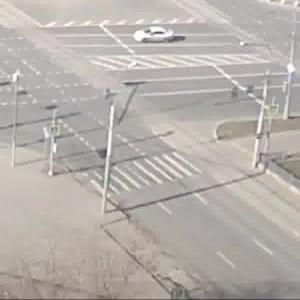car: (135, 24, 179, 49)
